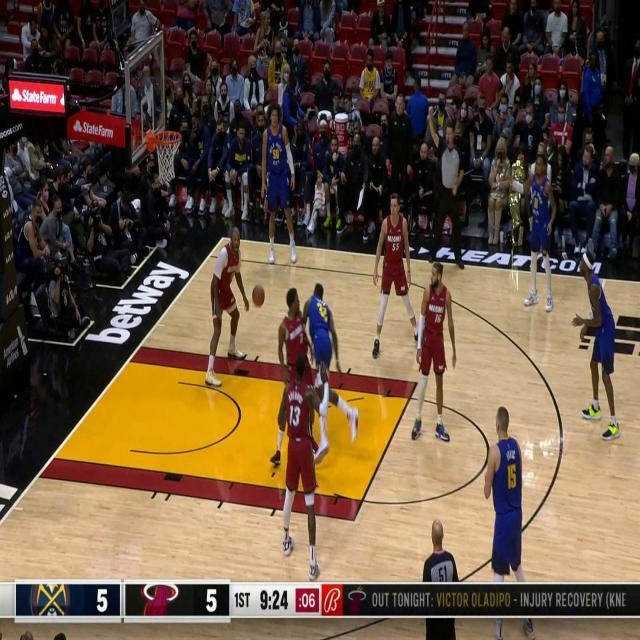rim: (252, 283, 266, 304)
